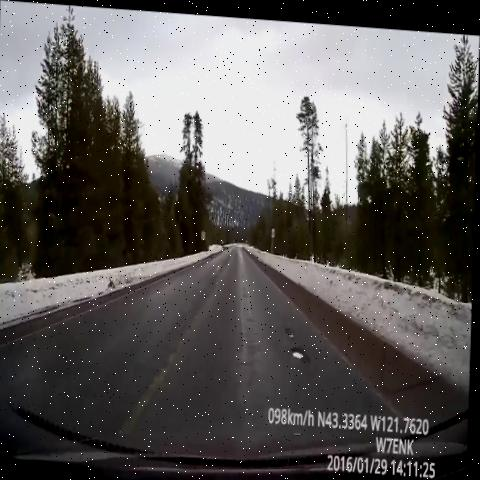pothole: (288, 337, 315, 362), (285, 318, 302, 340)
